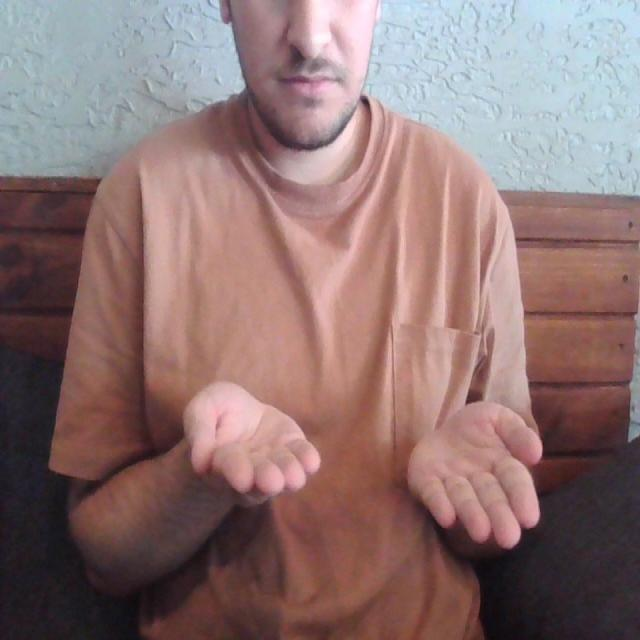Evet: (180, 373, 550, 557)
